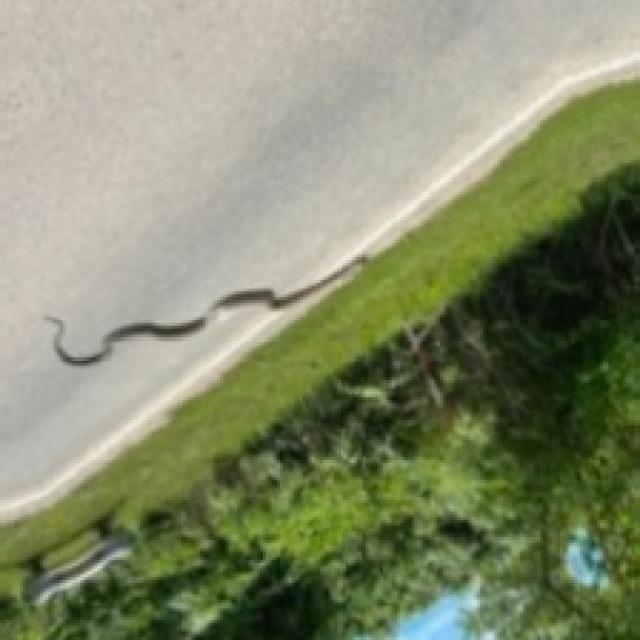king cobra: (46, 254, 366, 363), (29, 534, 129, 603)
